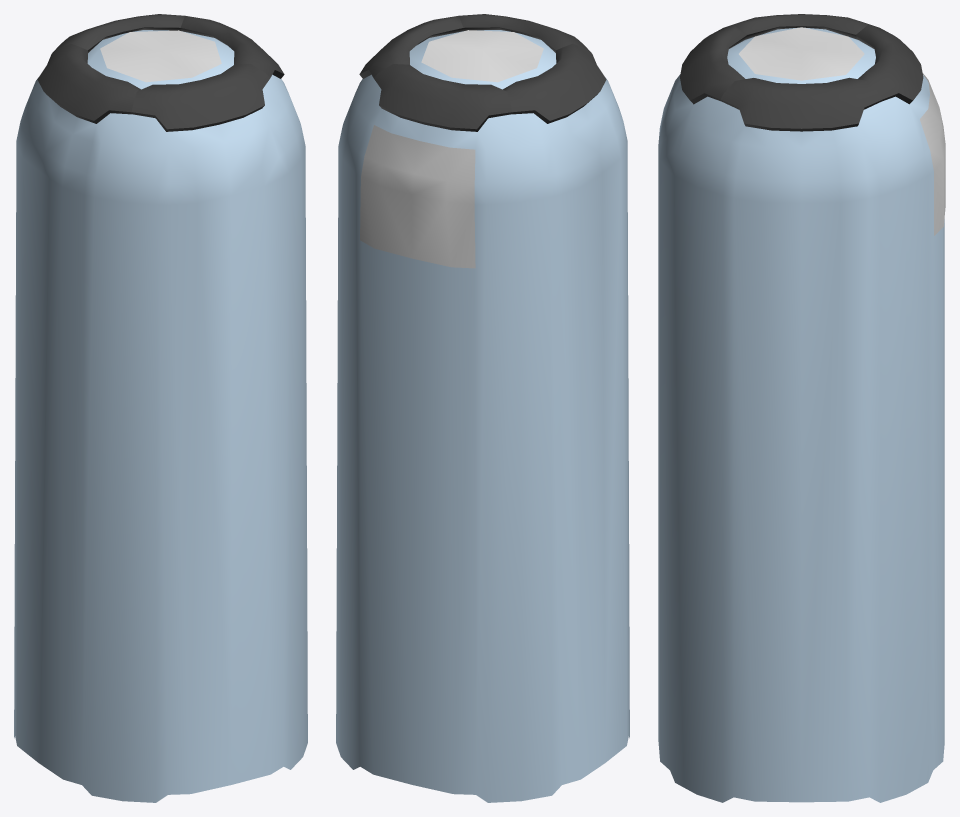
File: obj_characterobject_cablebotmulti_top.fbx
The picture shows the model from 3 angles, left to right: view 1: azimuth 30°, elevation 25°; view 2: azimuth 150°, elevation 25°; view 3: azimuth 270°, elevation 25°; orthographic projection.
Visible parts, largest first — view 1: obj_characterobject_tapebot.006; view 2: obj_characterobject_tapebot.006; view 3: obj_characterobject_tapebot.006.
Boxes of the visible parts, x1,y1,x2,y2 form: obj_characterobject_tapebot.006: (14, 14, 307, 802); obj_characterobject_tapebot.006: (336, 14, 629, 802); obj_characterobject_tapebot.006: (658, 14, 945, 802).
Size of the model in its own units: 3.2 by 8.65 by 3.21.
